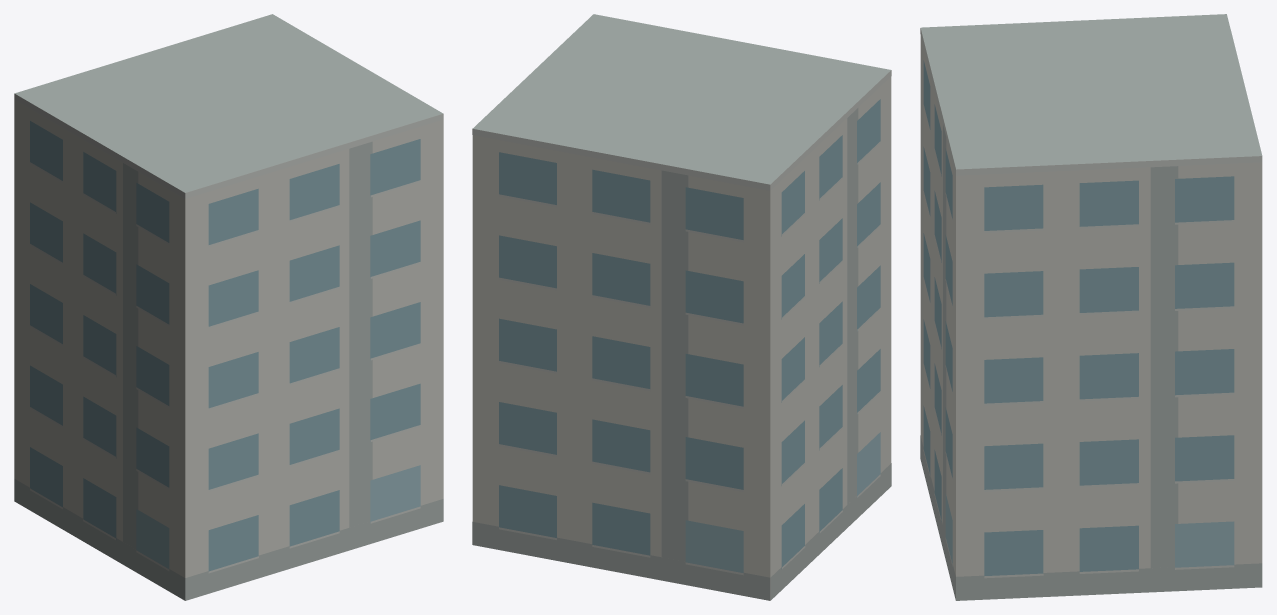
Rendered from survey-upis-32621025.glb.
3 renders of one model, left to right at view 1: azimuth 30°, elevation 25°; view 2: azimuth 150°, elevation 25°; view 3: azimuth 270°, elevation 25°, orthographic. The views are drawn at different scales.
Parts seen in each view (by area): view 1: survey-upis-32621025.tmp; view 2: survey-upis-32621025.tmp; view 3: survey-upis-32621025.tmp.
Boxes of the visible parts, <box> form: survey-upis-32621025.tmp: <box>14,14,443,600</box>; survey-upis-32621025.tmp: <box>472,14,891,600</box>; survey-upis-32621025.tmp: <box>920,14,1262,600</box>.
Bounding box in the file's own units: 12.69 × 16.4 × 11.79.
